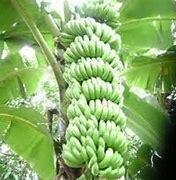banana: (57, 0, 132, 180), (59, 137, 131, 180), (57, 30, 123, 64), (59, 117, 128, 149), (60, 73, 128, 104), (55, 16, 122, 41), (58, 60, 119, 84), (72, 98, 126, 124)
